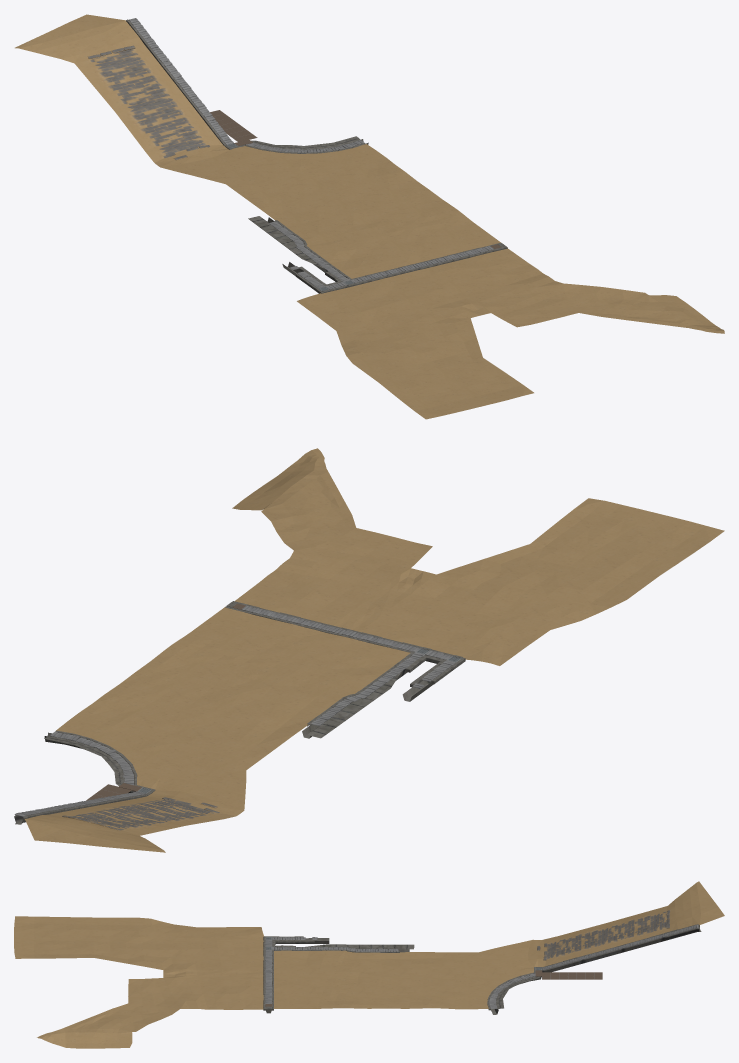
File: konohavill_ground_12.fbx
3 renders of one model, top to bottom at view 1: azimuth 30°, elevation 25°; view 2: azimuth 150°, elevation 25°; view 3: azimuth 270°, elevation 25°, orthographic. The views are drawn at different scales.
Parts seen in each view (by area): view 1: SM_ENV_KNVLLG_ground_12.mo; view 2: SM_ENV_KNVLLG_ground_12.mo; view 3: SM_ENV_KNVLLG_ground_12.mo.
Boxes of the visible parts, left/top/right/bottom form: SM_ENV_KNVLLG_ground_12.mo: left=15, top=14, right=724, bottom=419; SM_ENV_KNVLLG_ground_12.mo: left=14, top=448, right=724, bottom=852; SM_ENV_KNVLLG_ground_12.mo: left=14, top=881, right=724, bottom=1048.
Bounding box in the file's own units: 4431 × 812 × 10602.
